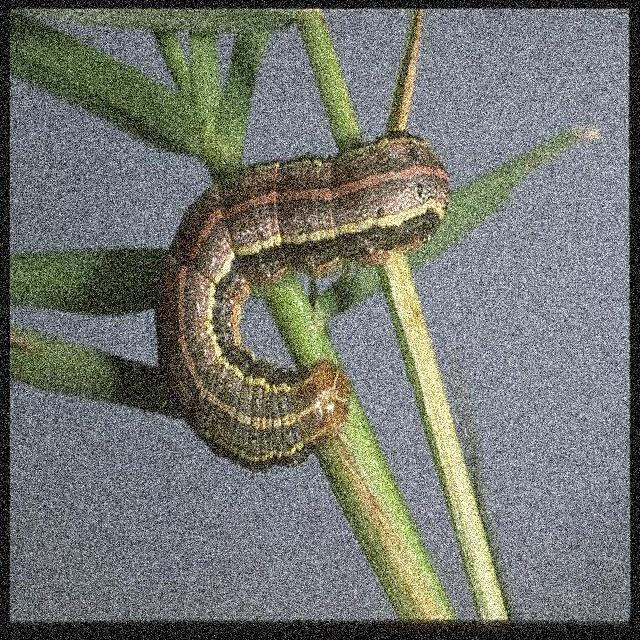gusano_cogollero: (149, 127, 455, 474)
